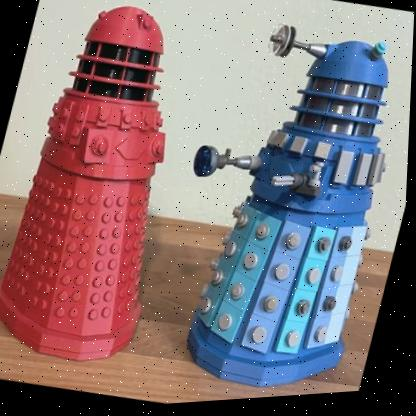dalek: (138, 0, 415, 406), (0, 0, 225, 378)
